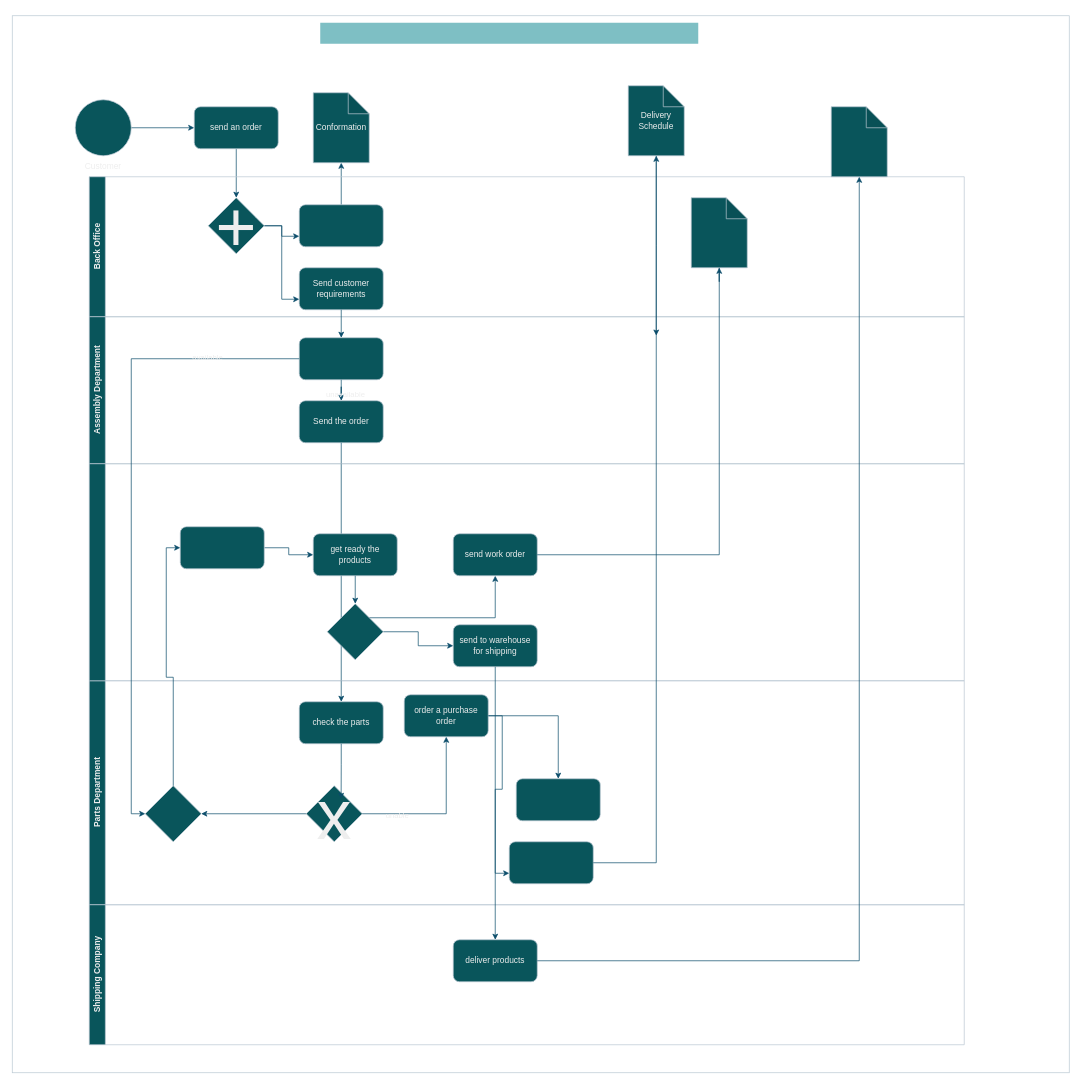
This 1082x1085 diagram has some shape labels left out. The shapes that lost their labels are listed below. From the top down, each one's centre as x and y in pixels, then its label:
the point at 509,32: High Level Diagram
the point at 859,141: Products
the point at 341,225: check and send conformation
the point at 719,232: Delivery Note
the point at 341,358: check the order
the point at 222,547: assemble parts
the point at 558,799: send require parts to Parts Supplier
the point at 551,862: send a delivery schedule
